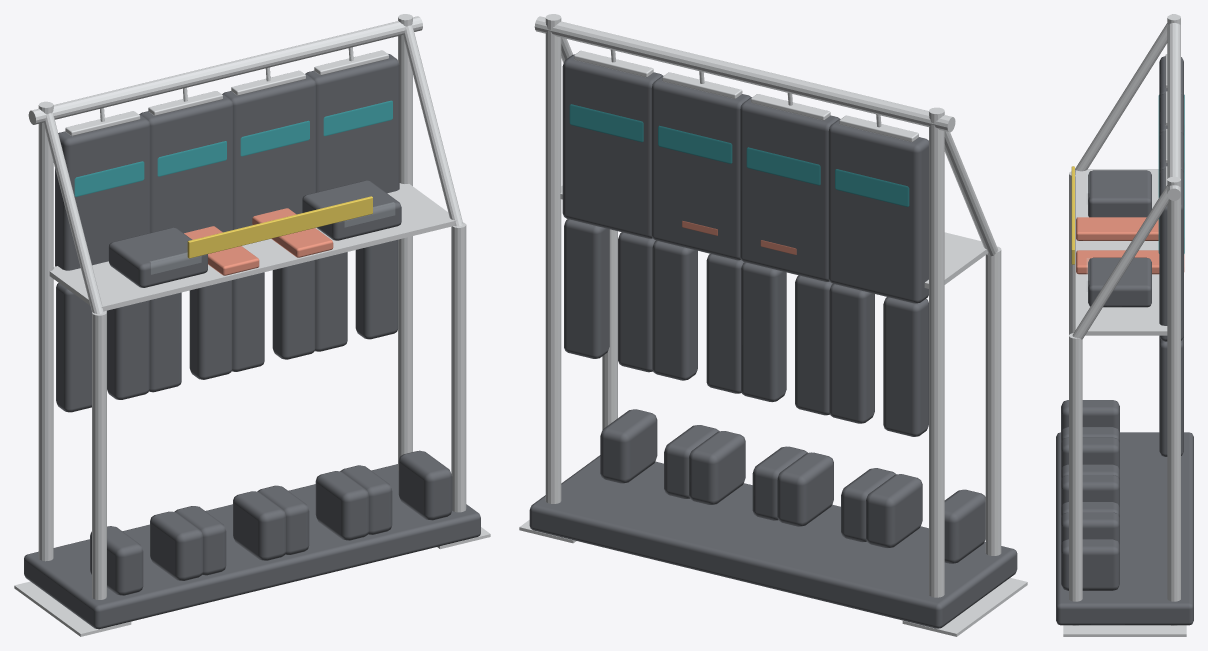
The model's file is public-aquarium-and-marine-centre-wetsuit-and-gear-rac-888a51ba__34184.glb.
The picture shows the model from 3 angles, left to right: view 1: azimuth 30°, elevation 25°; view 2: azimuth 150°, elevation 25°; view 3: azimuth 270°, elevation 25°; orthographic projection. The views are drawn at different scales.
Parts seen in each view (by area): view 1: wetsuit-and-gear-rack; view 2: wetsuit-and-gear-rack; view 3: wetsuit-and-gear-rack.
Boxes of the visible parts, x1,y1,x2,y2 form: wetsuit-and-gear-rack: [14, 14, 490, 636]; wetsuit-and-gear-rack: [519, 14, 1027, 636]; wetsuit-and-gear-rack: [1056, 14, 1193, 636].
Bounding box in the file's own units: 1.78 × 2 × 0.56.
